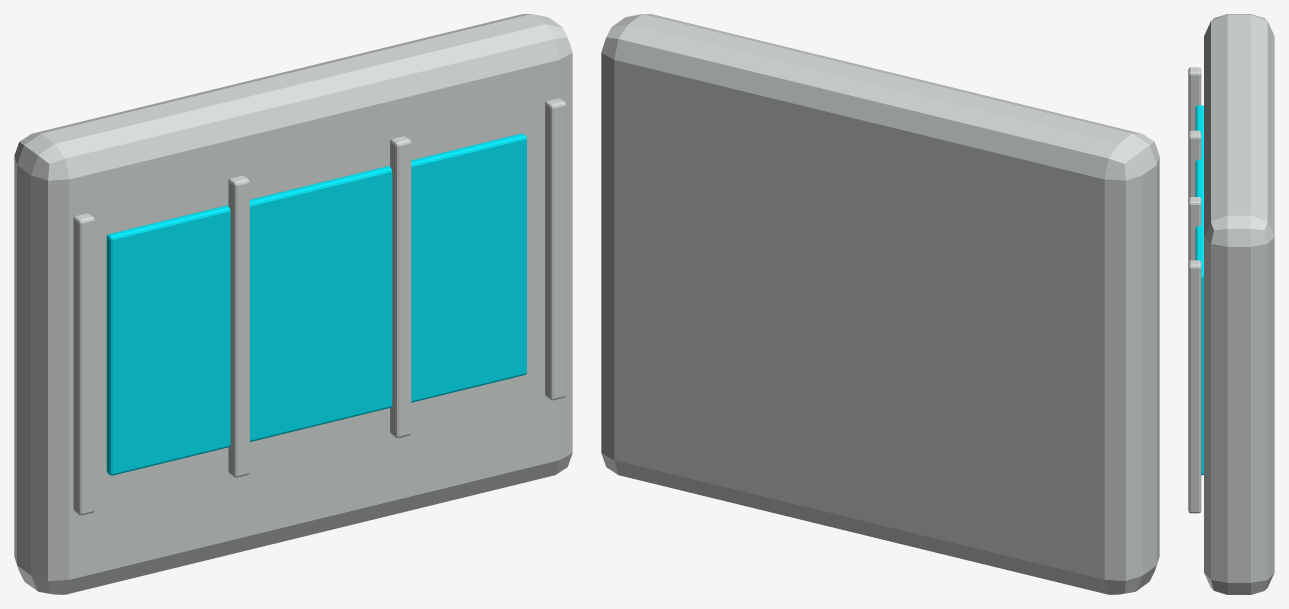
The model's file is LPK_Hull_WindowBay_4m.fbx.
3 views of the same model, side by side, from view 1: azimuth 30°, elevation 25°; view 2: azimuth 150°, elevation 25°; view 3: azimuth 270°, elevation 25° (orthographic). The views are drawn at different scales.
Visible parts, largest first — view 1: WindowBayHull, WindowGlass, WindowMullion, WindowMullion.003, WindowMullion.001, WindowMullion.002; view 2: WindowBayHull; view 3: WindowBayHull, WindowMullion.003, WindowGlass, WindowMullion, WindowMullion.001, WindowMullion.002.
Part boxes in pixels (x1,y1,x2,y2): WindowBayHull: (14, 14, 572, 594); WindowGlass: (106, 133, 526, 475); WindowMullion: (73, 213, 94, 515); WindowMullion.003: (545, 98, 566, 400); WindowMullion.001: (228, 175, 249, 477); WindowMullion.002: (390, 136, 411, 438); WindowBayHull: (601, 14, 1159, 594); WindowBayHull: (1204, 14, 1274, 594); WindowMullion.003: (1188, 260, 1201, 513); WindowGlass: (1195, 105, 1203, 475); WindowMullion: (1188, 67, 1201, 132); WindowMullion.001: (1188, 130, 1201, 198); WindowMullion.002: (1188, 197, 1201, 262).
Bounding box in the file's own units: 4 × 3.2 × 0.66.
